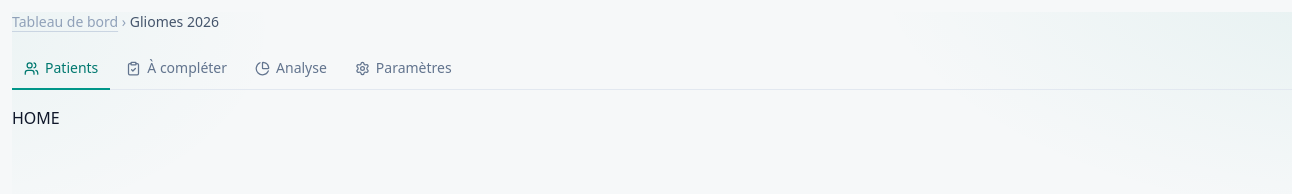
it: BaseLayout — quatre destinations › l onglet Parametres ouvre les reglages et deplie ses sous-onglets
This screenshot has width=1292, height=194.
Step 1. Click the link "Paramètres" → (403, 68), box [355,58,452,77]
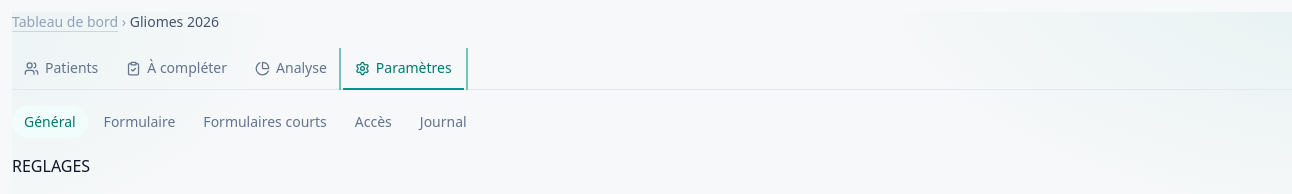
Now the text "REGLAGES" is shown, box [12,155,90,177]
